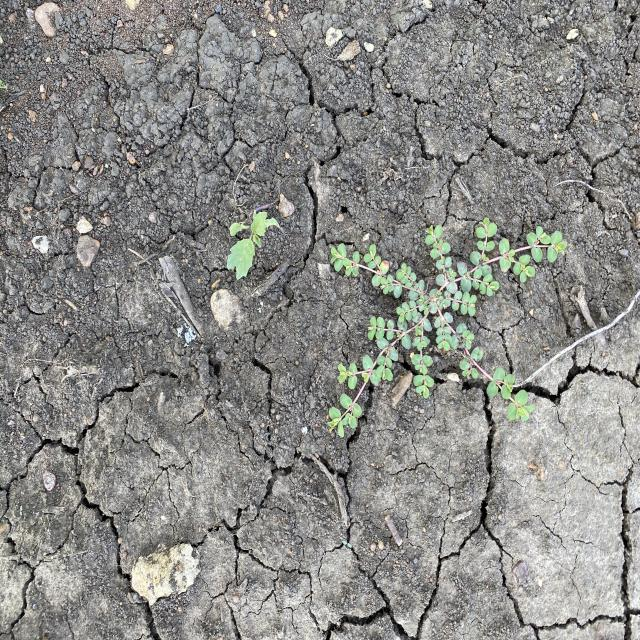CutleafGroundcherry: (225, 205, 282, 282)
SpottedSpurge: (324, 216, 569, 440)
